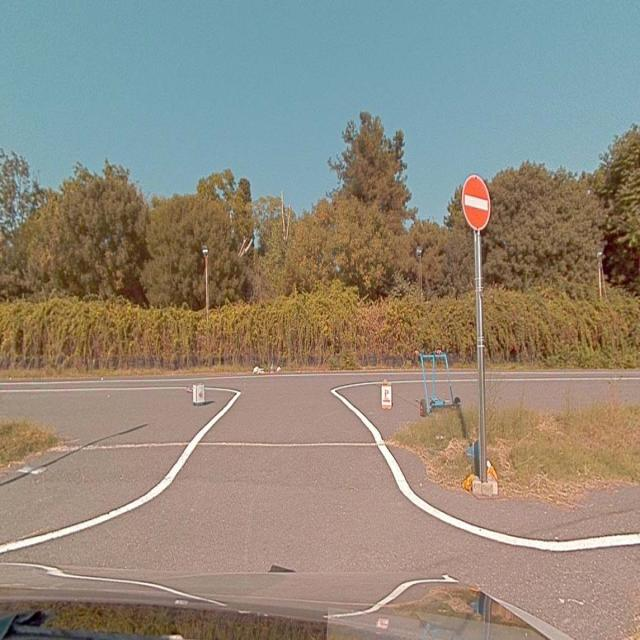girisyok: (462, 175, 489, 229)
